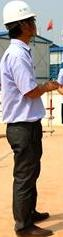boots: (31, 210, 49, 222), (1, 1, 1, 1)
hard-hat: (1, 0, 36, 25)
